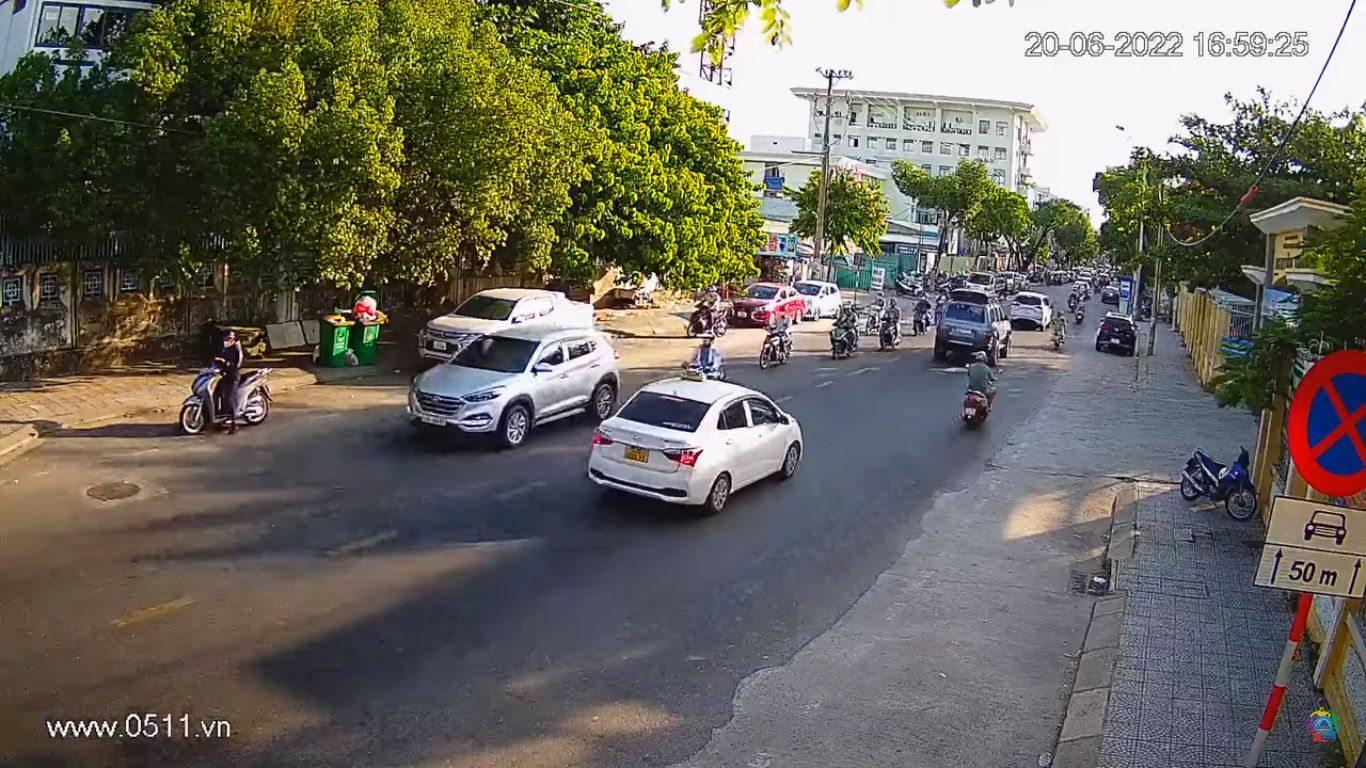car: (590, 375, 800, 519), (402, 337, 624, 436)
